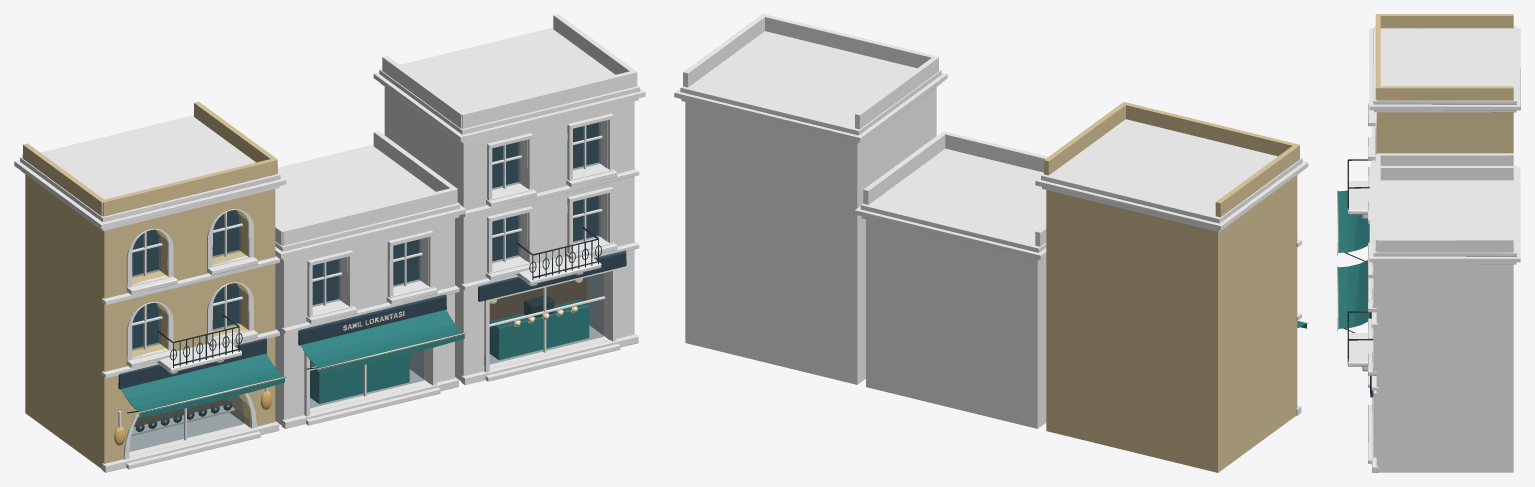
Rendered from DistrictBlock_3_2_LOD1.glb.
3 renders of one model, left to right at view 1: azimuth 30°, elevation 25°; view 2: azimuth 150°, elevation 25°; view 3: azimuth 270°, elevation 25°, orthographic. The views are drawn at different scales.
Visible parts, largest first — view 1: RK_DistrictBlock_3_2_LOD1_LC_Lime, RK_DistrictBlock_3_2_LOD1_LC_Ochre, RK_DistrictBlock_3_2_LOD1_LC_Brick, RK_DistrictBlock_3_2_LOD1_LC_Glass, RK_DistrictBlock_3_2_LOD1_LC_Coral, RK_DistrictBlock_3_2_LOD1_LC_Teal, RK_DistrictBlock_3_2_LOD1_LC_Ink, RK_DistrictBlock_3_2_LOD1_LC_Wood, RK_DistrictBlock_3_2_LOD1_LC_Iron, RK_DistrictBlock_3_2_LOD1_LC_Interior, RK_DistrictBlock_3_2_LOD1_LC_Canvas; view 2: RK_DistrictBlock_3_2_LOD1_LC_Ochre, RK_DistrictBlock_3_2_LOD1_LC_Brick, RK_DistrictBlock_3_2_LOD1_LC_Lime, RK_DistrictBlock_3_2_LOD1_LC_Coral; view 3: RK_DistrictBlock_3_2_LOD1_LC_Brick, RK_DistrictBlock_3_2_LOD1_LC_Lime, RK_DistrictBlock_3_2_LOD1_LC_Ochre, RK_DistrictBlock_3_2_LOD1_LC_Teal, RK_DistrictBlock_3_2_LOD1_LC_Coral, RK_DistrictBlock_3_2_LOD1_LC_Iron, RK_DistrictBlock_3_2_LOD1_LC_Canvas.
Part boxes in pixels (<box>): RK_DistrictBlock_3_2_LOD1_LC_Lime: <box>14,27,645,472</box>; RK_DistrictBlock_3_2_LOD1_LC_Ochre: <box>22,101,277,468</box>; RK_DistrictBlock_3_2_LOD1_LC_Brick: <box>382,14,637,380</box>; RK_DistrictBlock_3_2_LOD1_LC_Glass: <box>129,122,603,451</box>; RK_DistrictBlock_3_2_LOD1_LC_Coral: <box>275,131,457,424</box>; RK_DistrictBlock_3_2_LOD1_LC_Teal: <box>121,299,589,417</box>; RK_DistrictBlock_3_2_LOD1_LC_Ink: <box>118,122,626,431</box>; RK_DistrictBlock_3_2_LOD1_LC_Wood: <box>118,125,608,456</box>; RK_DistrictBlock_3_2_LOD1_LC_Iron: <box>127,227,601,413</box>; RK_DistrictBlock_3_2_LOD1_LC_Interior: <box>134,277,587,426</box>; RK_DistrictBlock_3_2_LOD1_LC_Canvas: <box>138,306,577,413</box>; RK_DistrictBlock_3_2_LOD1_LC_Ochre: <box>1044,102,1299,472</box>; RK_DistrictBlock_3_2_LOD1_LC_Brick: <box>683,14,938,384</box>; RK_DistrictBlock_3_2_LOD1_LC_Lime: <box>674,31,1308,415</box>; RK_DistrictBlock_3_2_LOD1_LC_Coral: <box>863,131,1048,428</box>; RK_DistrictBlock_3_2_LOD1_LC_Brick: <box>1375,166,1513,472</box>; RK_DistrictBlock_3_2_LOD1_LC_Lime: <box>1347,26,1520,472</box>; RK_DistrictBlock_3_2_LOD1_LC_Ochre: <box>1375,14,1513,153</box>; RK_DistrictBlock_3_2_LOD1_LC_Teal: <box>1337,190,1370,331</box>; RK_DistrictBlock_3_2_LOD1_LC_Coral: <box>1375,153,1513,166</box>; RK_DistrictBlock_3_2_LOD1_LC_Iron: <box>1344,159,1373,361</box>; RK_DistrictBlock_3_2_LOD1_LC_Canvas: <box>1337,190,1338,329</box>.
Bounding box in the file's own units: 19.09 × 9.02 × 6.44.
